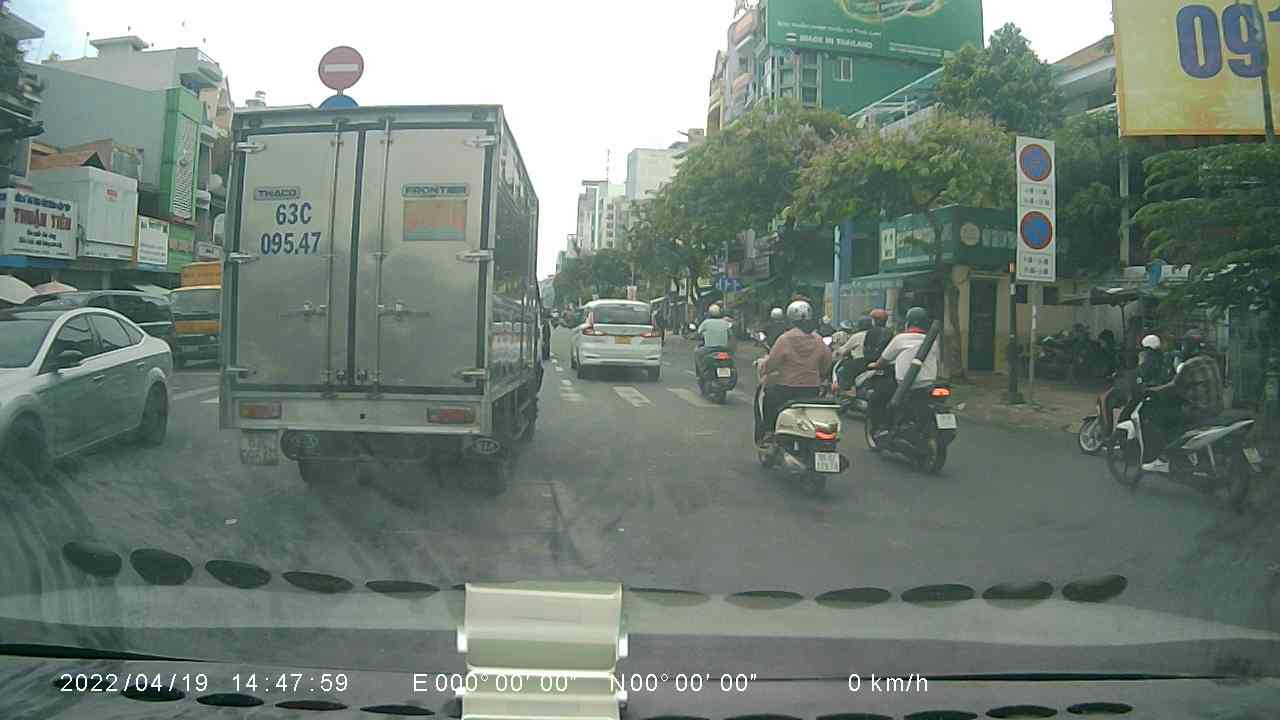Bien khac: (1017, 137, 1054, 184)
Cam di nguoc chieu: (318, 45, 366, 87)
Cam do xe: (1021, 209, 1052, 249)
